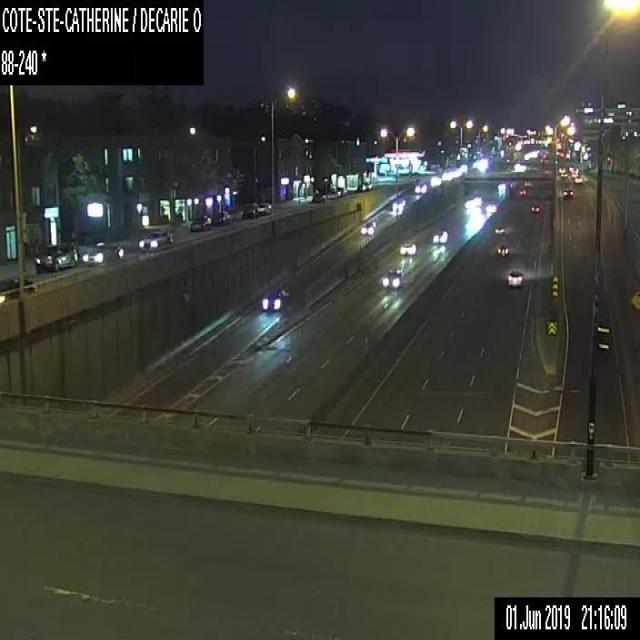vehicle: (35, 241, 77, 272), (81, 240, 124, 264), (0, 275, 36, 301), (261, 285, 289, 311), (137, 229, 172, 248), (382, 269, 402, 288), (189, 214, 211, 230), (241, 202, 257, 219), (213, 212, 231, 226), (507, 269, 523, 284), (400, 241, 415, 255), (361, 220, 375, 234), (432, 229, 447, 242), (391, 197, 405, 210), (257, 202, 271, 214), (322, 188, 336, 199), (496, 244, 508, 255), (562, 188, 573, 199), (414, 182, 426, 192), (335, 186, 344, 197), (494, 224, 504, 233), (362, 181, 370, 191), (530, 202, 539, 210), (518, 188, 527, 195), (570, 170, 578, 177), (574, 176, 582, 183), (558, 165, 565, 172), (568, 164, 574, 171), (524, 180, 530, 186), (541, 152, 546, 159), (560, 172, 567, 176)
